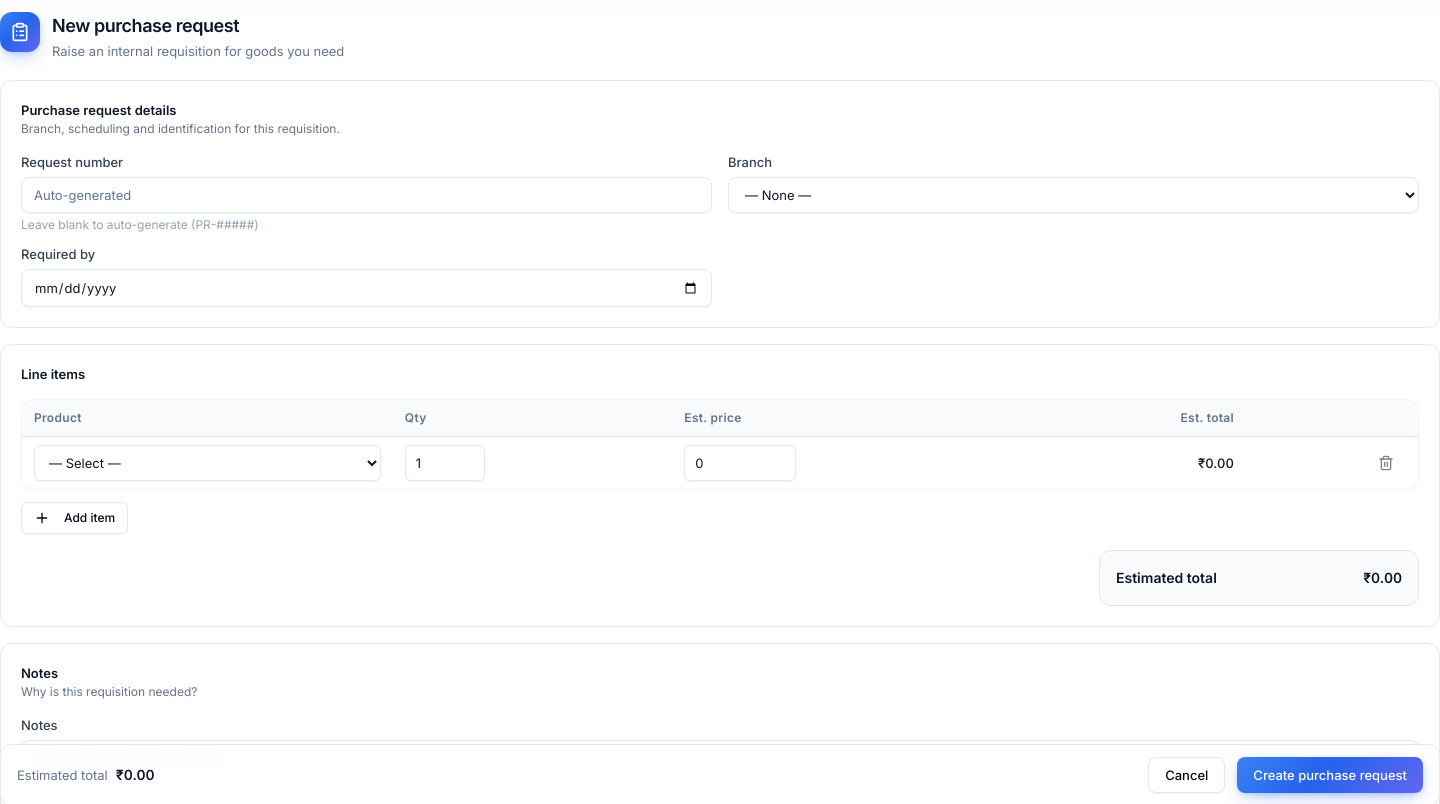
Test case: PurchaseRequestForm › surfaces a server error
Select "Widget" in the dropdown named "Product for line 1". click: point(207, 462)
box: [34, 444, 381, 480]
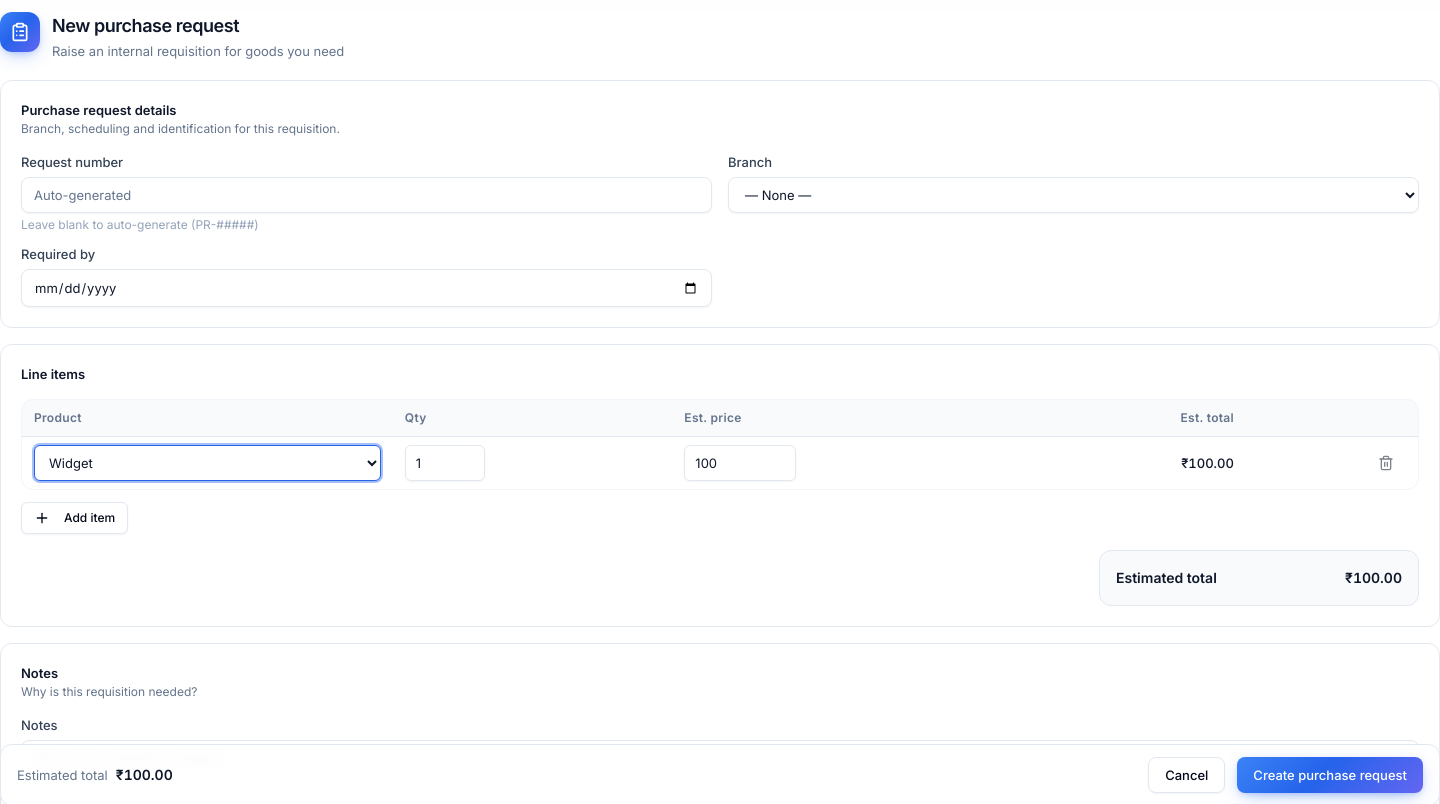
Click the button "Create purchase request". click: point(1330, 775)
box: [1237, 757, 1423, 793]
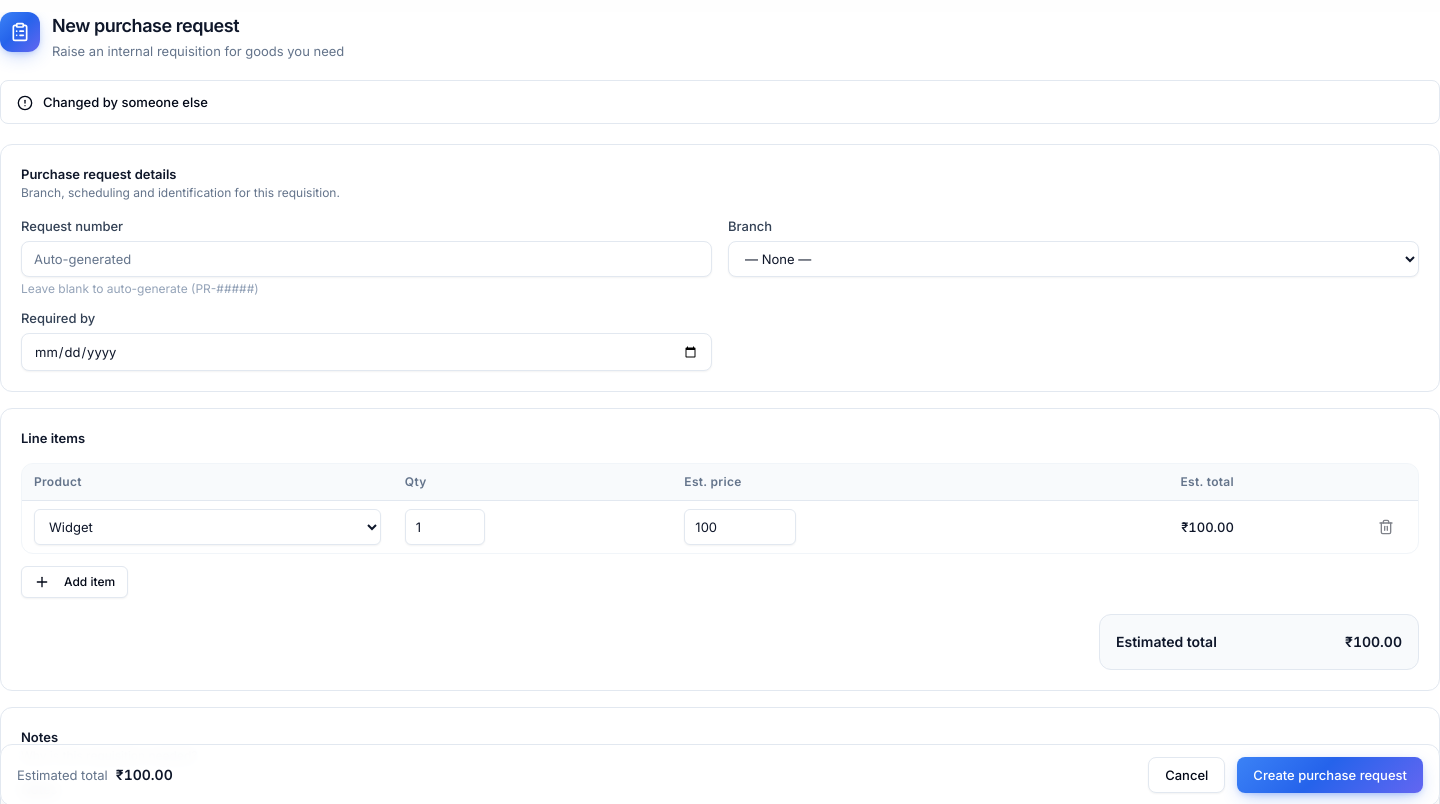
Result: the text "Changed by someone else" is shown at [43, 93, 208, 111]
